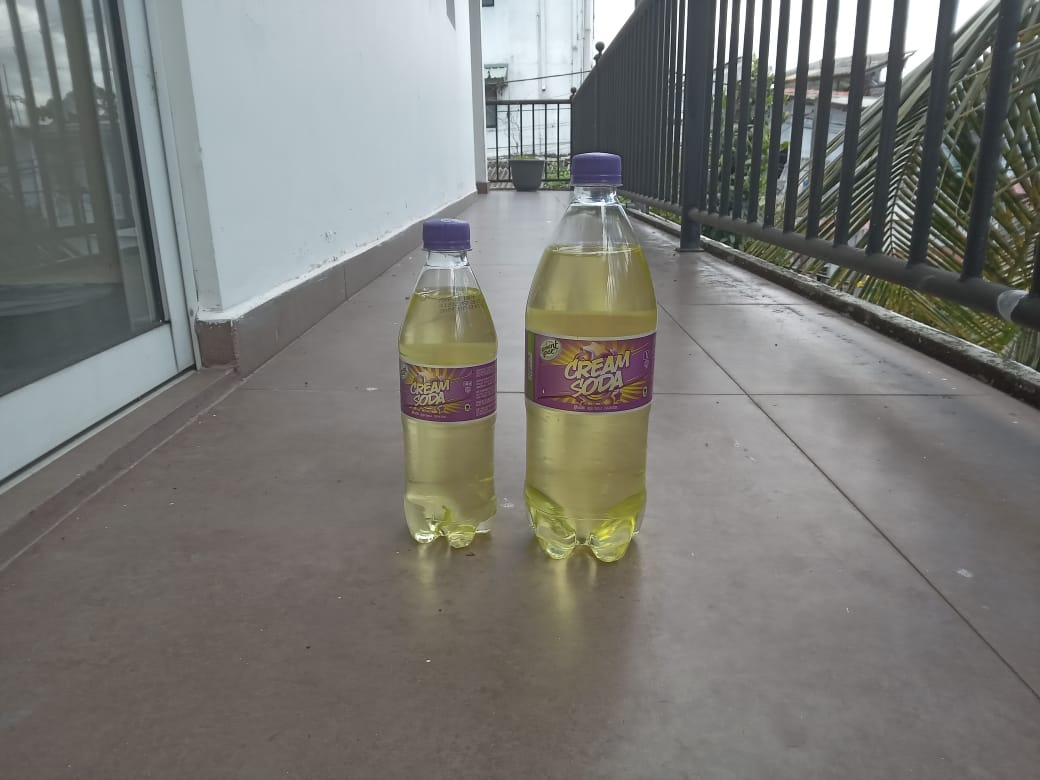M: (524, 151, 661, 568)
S: (392, 215, 502, 550)
